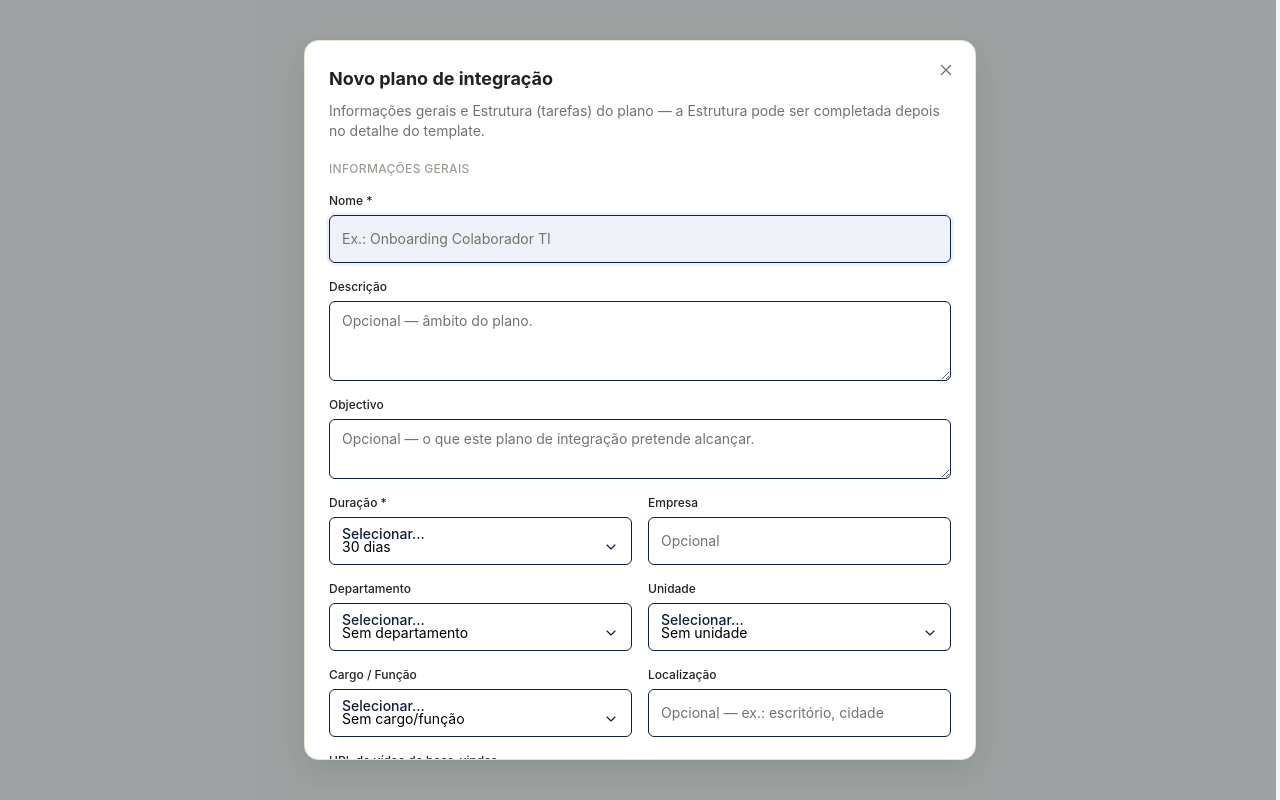
Test: TemplateFormModal — criar › erro da API — mostra mensagem
Type "Onboarding X" into the field labelled "Nome *" at coordinates (640, 239), box [329,215,951,263]
(page scrolled)
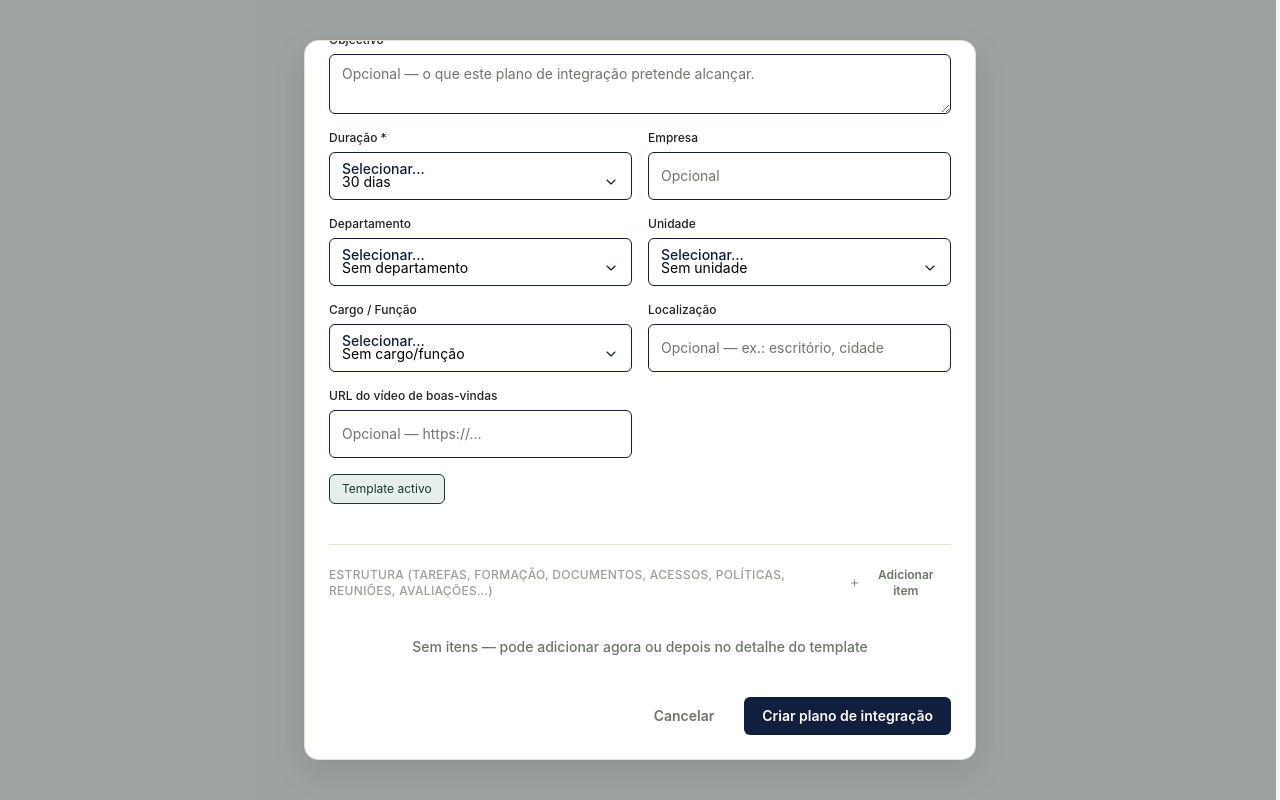
Click the button "Criar plano de integração" at coordinates (848, 716), box [744,697,951,735]
(page scrolled)
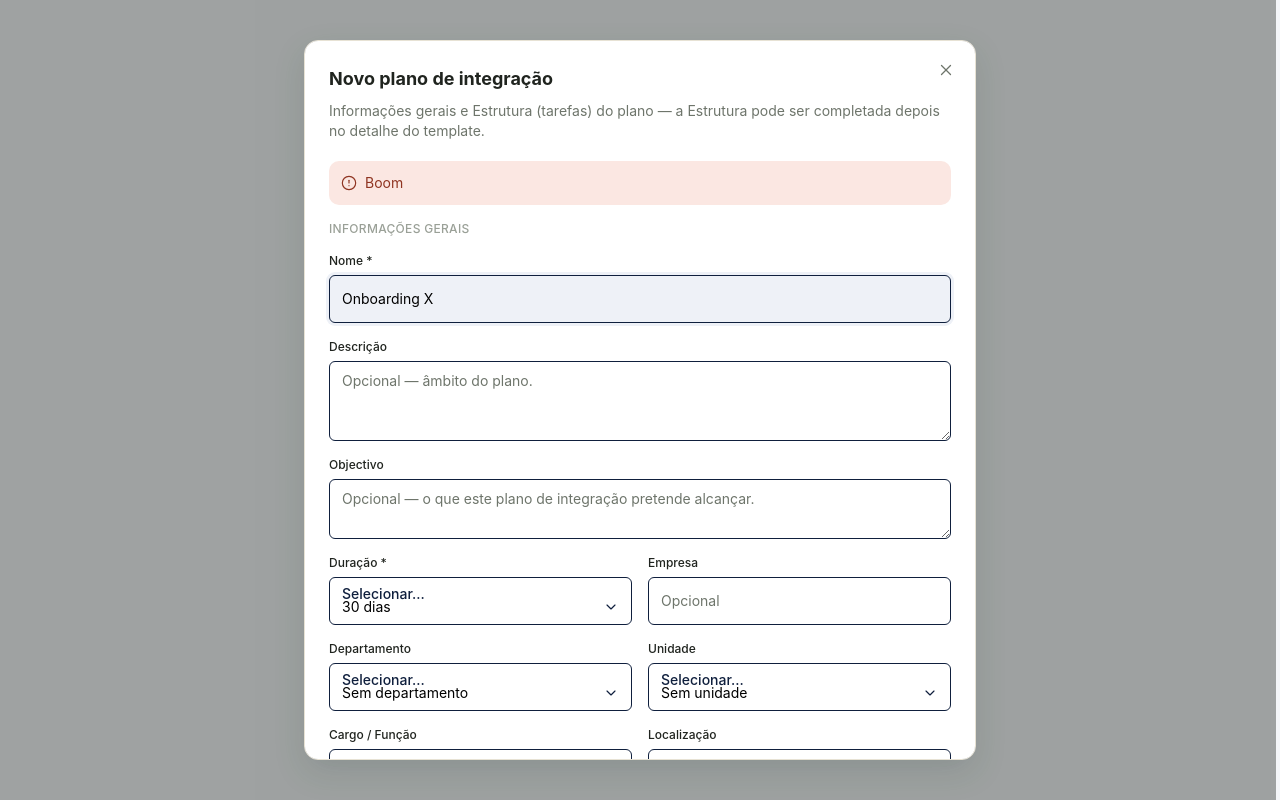
expect the text "Boom" is shown: met, box [329,161,951,205]
